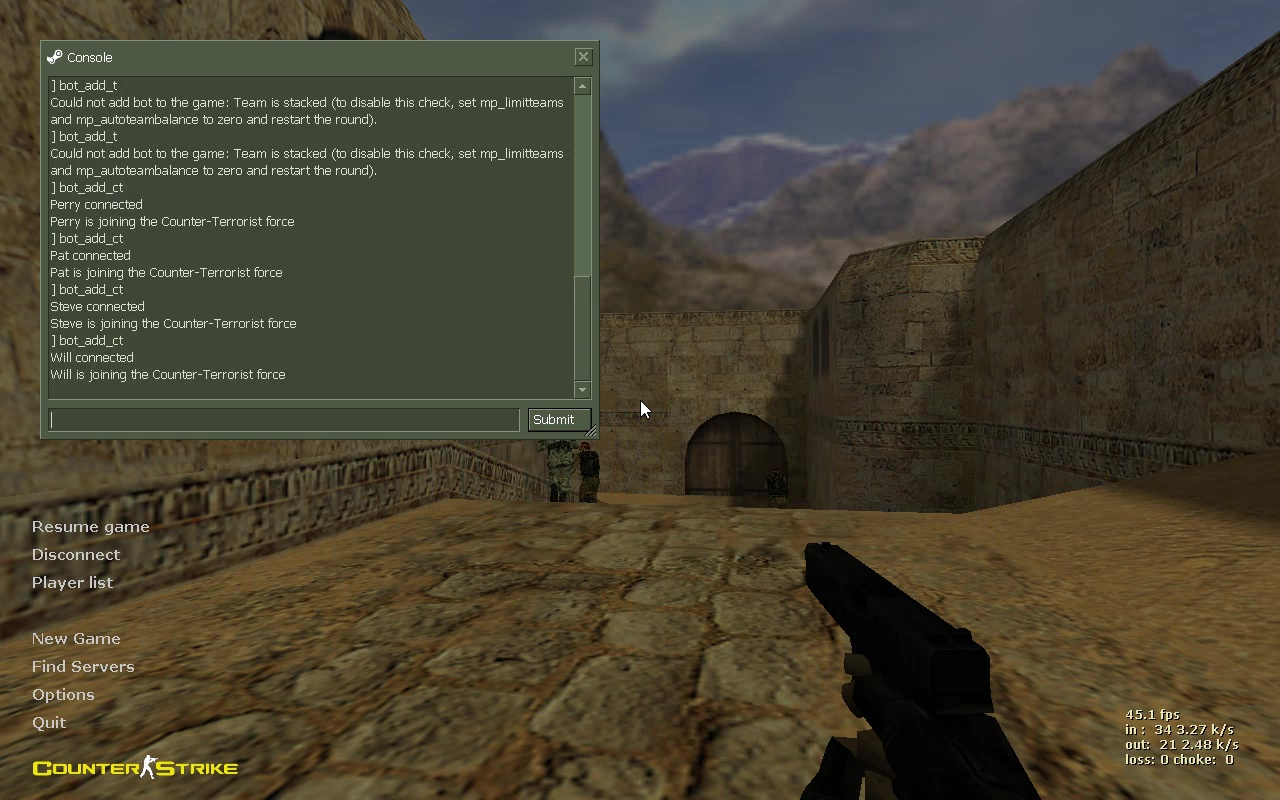terr1: (572, 447, 606, 509), (759, 468, 791, 519)
terr2: (542, 430, 571, 507)
